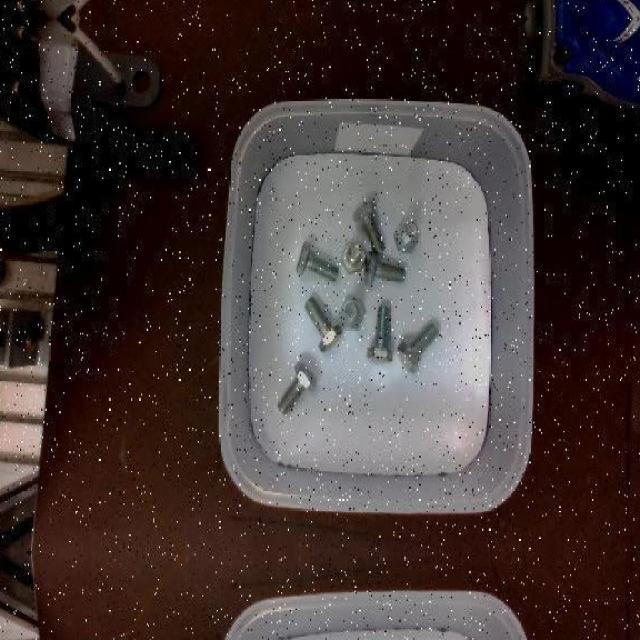screw: (304, 296, 342, 354), (276, 363, 316, 417), (398, 320, 439, 372), (351, 198, 385, 254), (296, 240, 338, 282), (364, 249, 406, 286), (367, 306, 393, 364), (392, 218, 420, 252), (338, 298, 364, 330), (340, 242, 364, 274)
